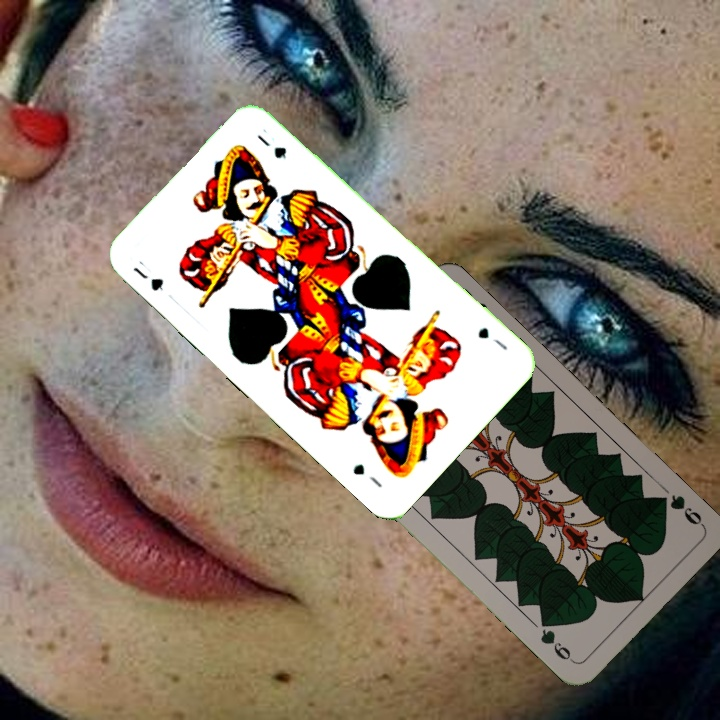G9: (652, 490, 706, 529)
GU: (129, 256, 166, 294), (474, 323, 511, 353)
